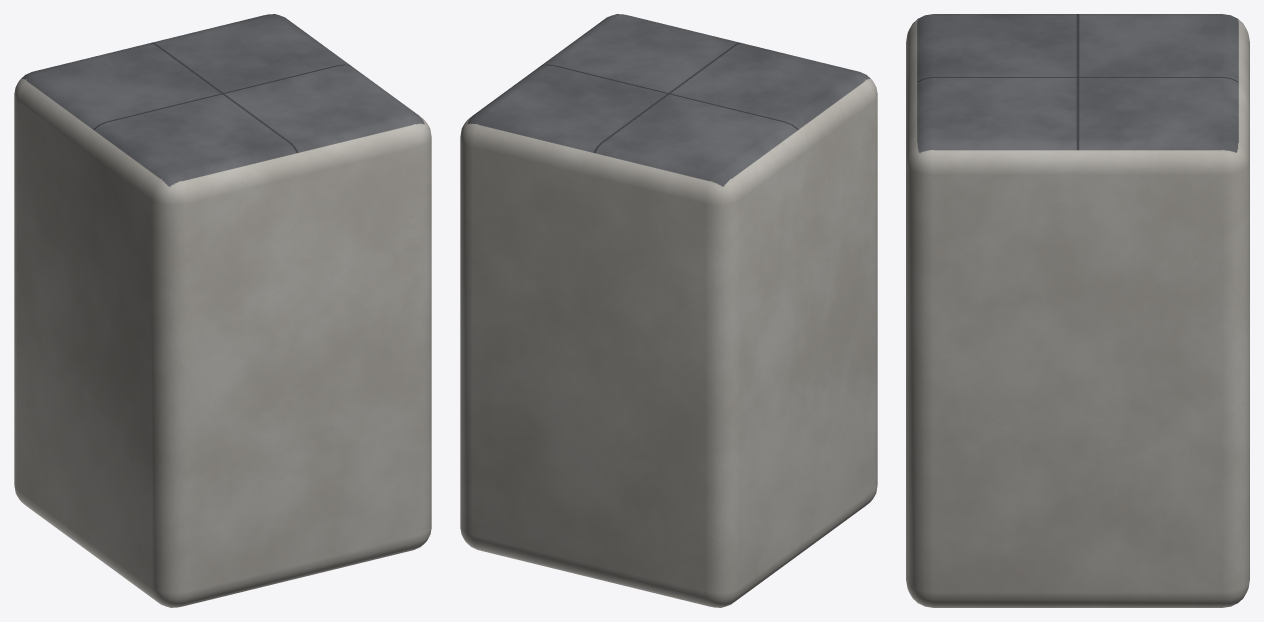
Rendered from SM_Tile_Dark.fbx.
3 renders of one model, left to right at view 1: azimuth 30°, elevation 25°; view 2: azimuth 150°, elevation 25°; view 3: azimuth 270°, elevation 25°, orthographic. The views are drawn at different scales.
Parts seen in each view (by area): view 1: SM_Tile_Dark; view 2: SM_Tile_Dark; view 3: SM_Tile_Dark.
Part boxes in pixels (x1,y1,x2,y2): SM_Tile_Dark: (14,14,431,607); SM_Tile_Dark: (460,14,877,607); SM_Tile_Dark: (906,14,1249,607).
Bounding box in the file's own units: 2 × 3 × 2.
